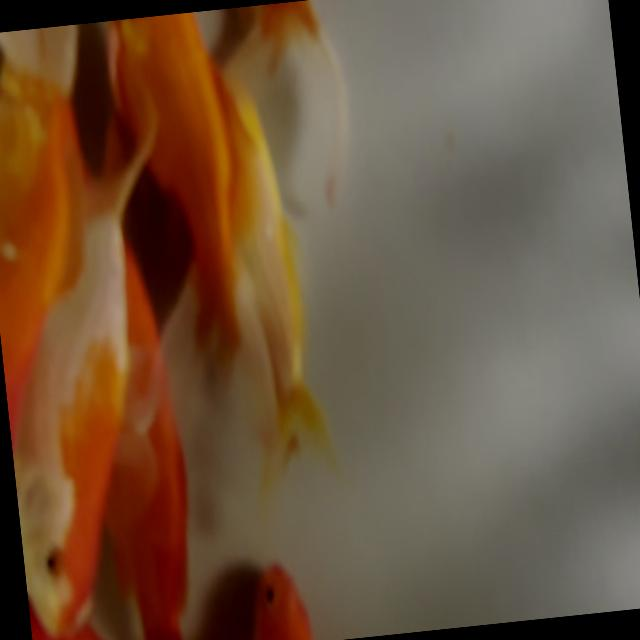fish: (97, 2, 334, 501), (0, 167, 157, 633), (67, 247, 218, 640), (0, 25, 106, 468), (167, 0, 346, 149), (24, 547, 213, 640), (185, 553, 343, 640)
